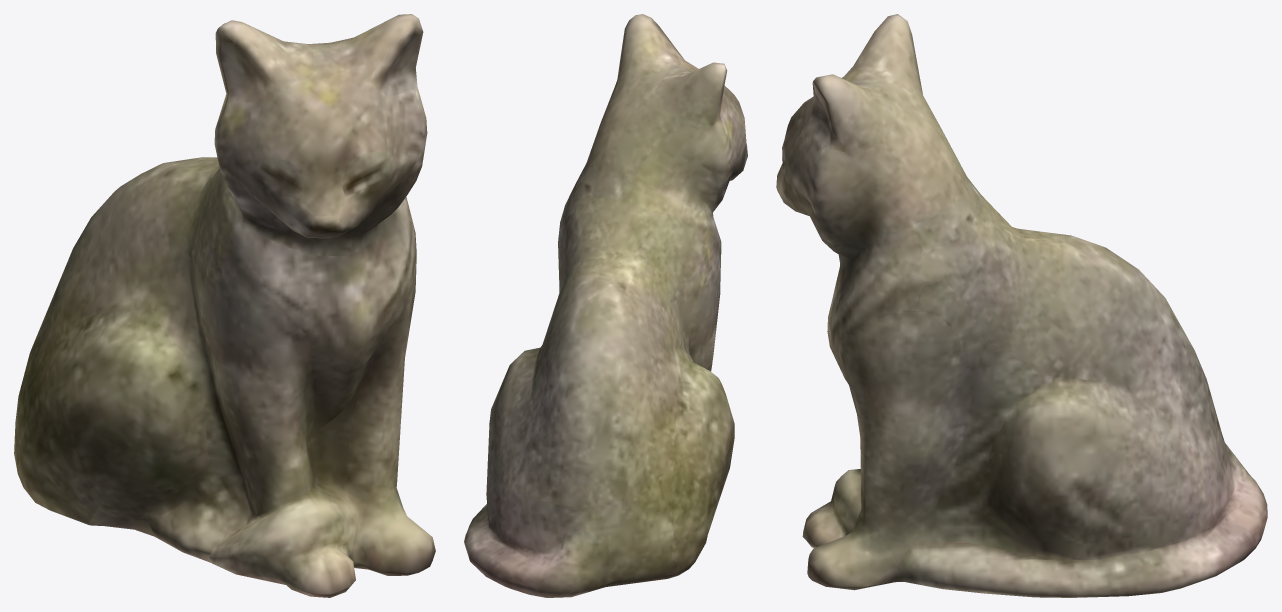
The model's file is cat.glb.
The picture shows the model from 3 angles, left to right: view 1: azimuth 30°, elevation 25°; view 2: azimuth 150°, elevation 25°; view 3: azimuth 270°, elevation 25°; orthographic projection. The views are drawn at different scales.
Parts seen in each view (by area): view 1: concrete_cat_statue; view 2: concrete_cat_statue; view 3: concrete_cat_statue.
Boxes of the visible parts, x1,y1,x2,y2 form: concrete_cat_statue: (14,14,435,597); concrete_cat_statue: (464,14,747,597); concrete_cat_statue: (776,14,1267,597).
Size of the model in its own units: 0.1524 by 0.2826 by 0.2497.
1 material, 1 textured.
